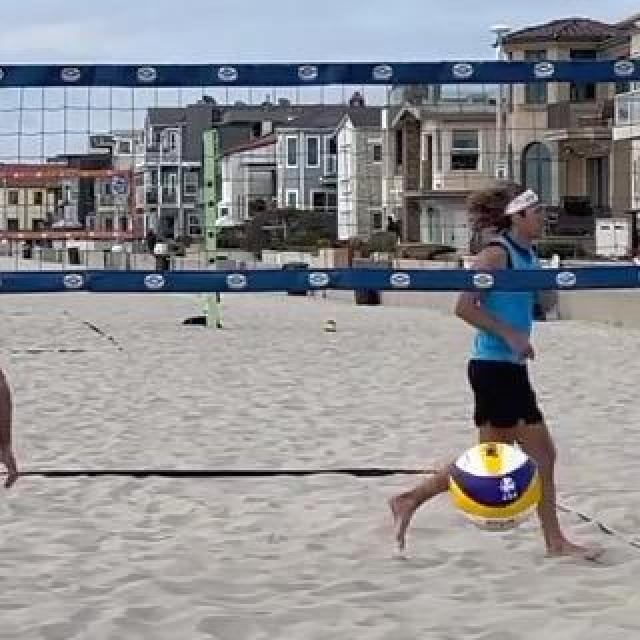volleyball: (452, 444, 540, 526)
